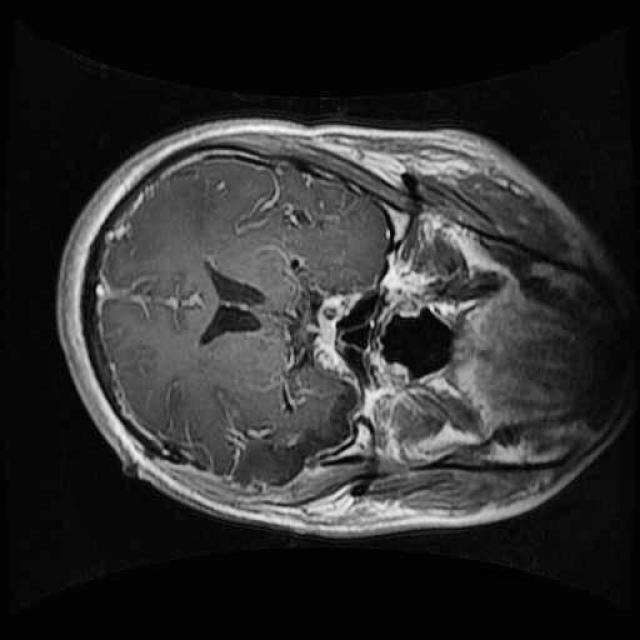Tumor: (222, 378, 379, 504)
